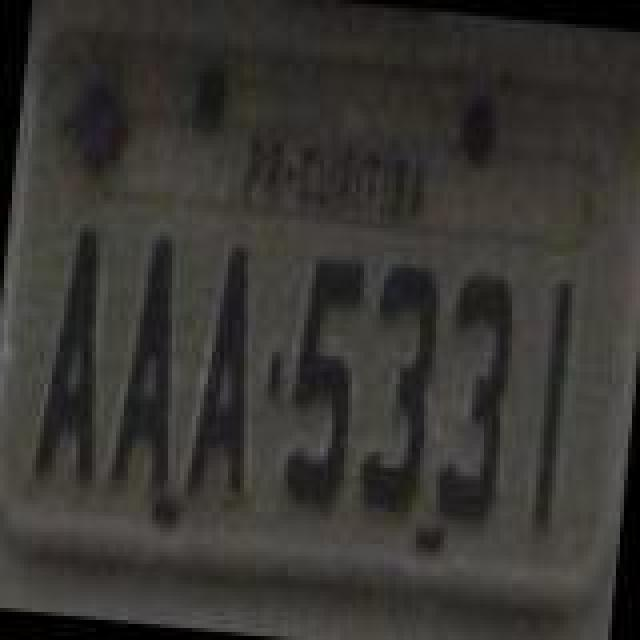1: (526, 276, 578, 532)
3: (354, 258, 446, 526), (426, 266, 518, 534)
5: (272, 248, 368, 520)
A: (26, 226, 118, 494), (178, 238, 270, 506), (108, 228, 196, 492)
